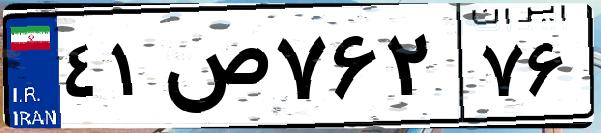1: (110, 28, 158, 98)
2: (385, 28, 445, 110)
4: (57, 26, 110, 100)
6: (330, 28, 385, 110), (525, 38, 570, 115)
7: (270, 28, 330, 110), (475, 38, 525, 113)
ص: (158, 20, 270, 120)
